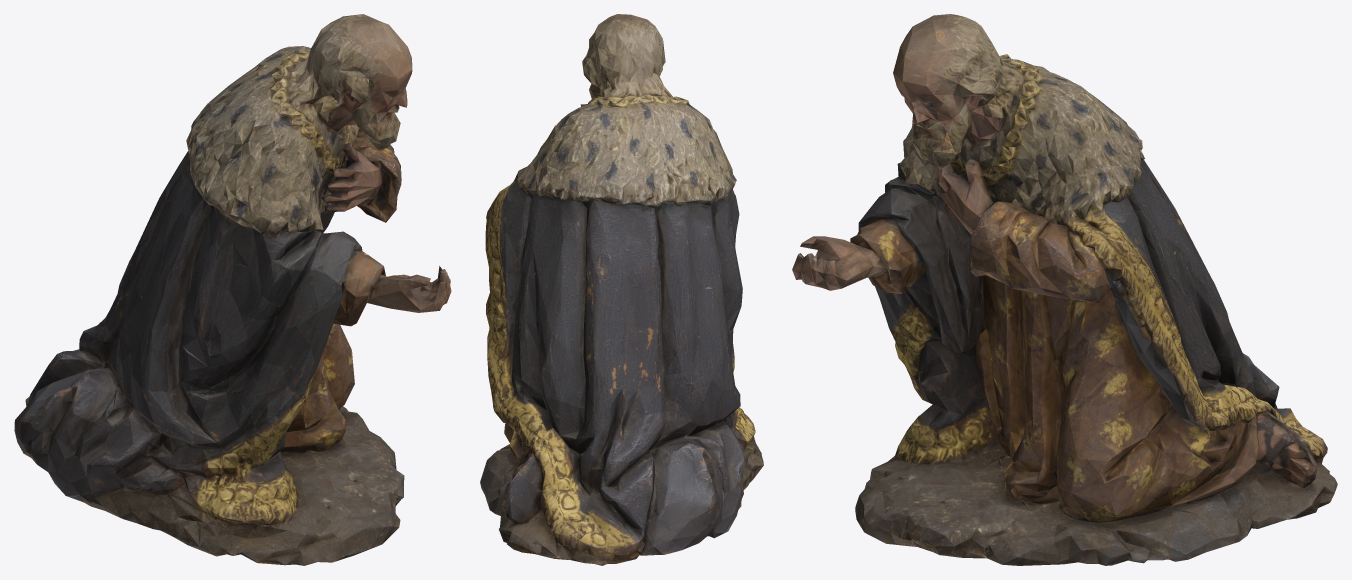
The model's file is melchorBaixRes.obj.
3 views of the same model, side by side, from view 1: azimuth 30°, elevation 25°; view 2: azimuth 150°, elevation 25°; view 3: azimuth 270°, elevation 25° (orthographic). The views are drawn at different scales.
Parts seen in each view (by area): view 1: MCGO12000-281_low; view 2: MCGO12000-281_low; view 3: MCGO12000-281_low.
Part boxes in pixels (x1,y1,x2,y2): MCGO12000-281_low: (14,14,451,565); MCGO12000-281_low: (480,14,763,565); MCGO12000-281_low: (792,14,1337,565).
Bounding box in the file's own units: 1.28 × 1.92 × 1.81.
1 material, 1 textured.
